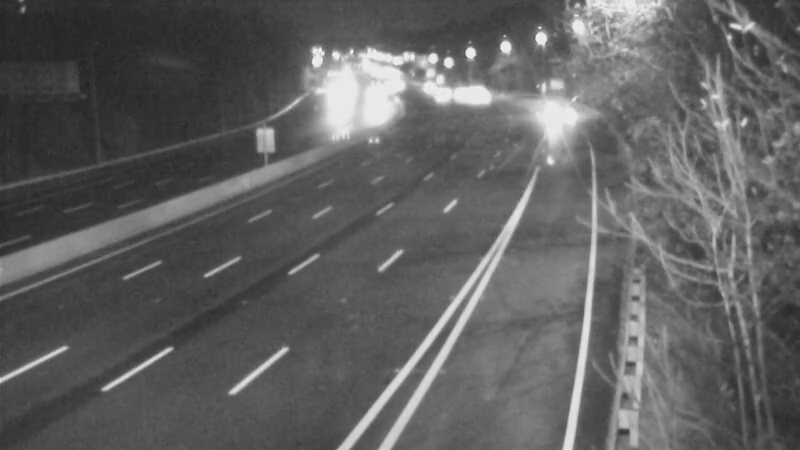vehicle: (415, 68, 465, 118), (446, 70, 496, 120), (521, 88, 571, 138), (357, 75, 407, 125)
